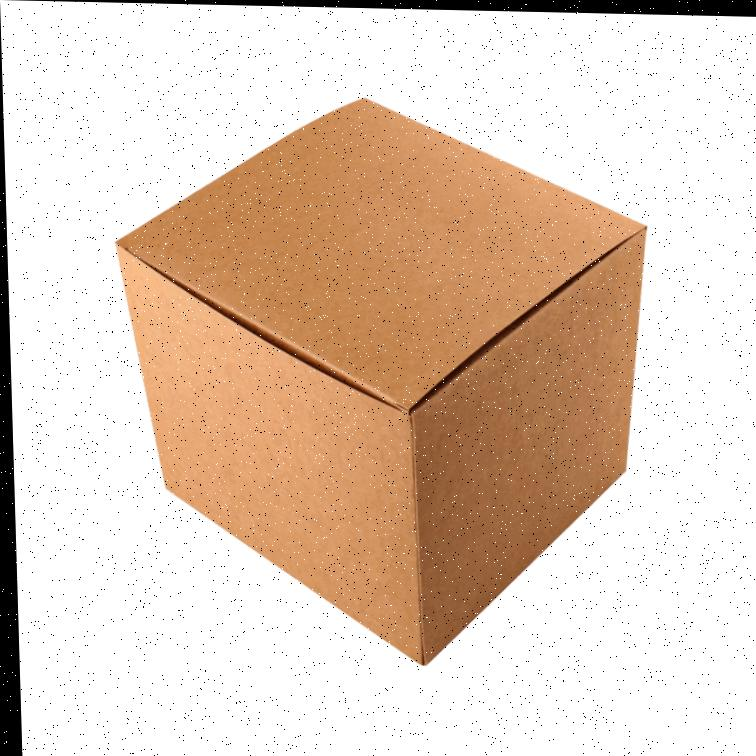cube: (115, 86, 661, 674)
